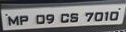character: (7, 15, 19, 26), (18, 15, 29, 26), (35, 13, 45, 24), (45, 13, 55, 24), (59, 12, 69, 23), (84, 11, 94, 22), (93, 11, 103, 22), (109, 10, 119, 21), (70, 12, 79, 23)
